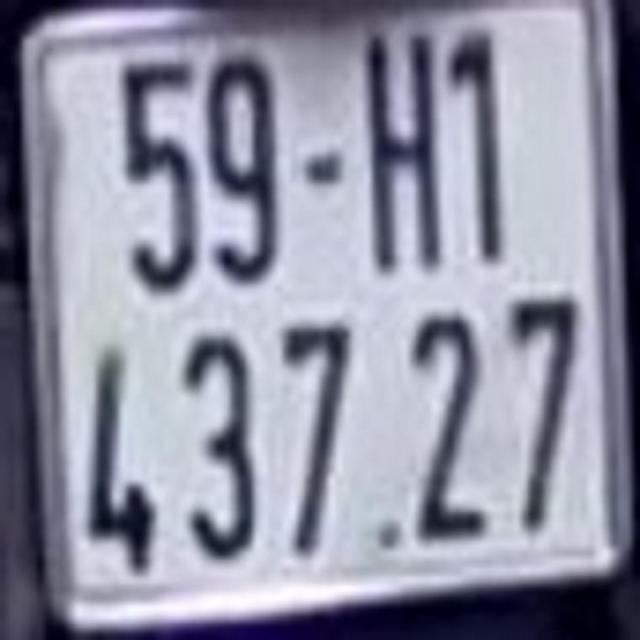1: (454, 24, 509, 262)
2: (410, 312, 483, 543)
3: (180, 333, 264, 550)
4: (83, 347, 167, 570)
5: (123, 57, 199, 282)
7: (503, 294, 587, 536), (280, 319, 352, 560)
9: (209, 51, 279, 280)
H: (358, 26, 444, 264)
